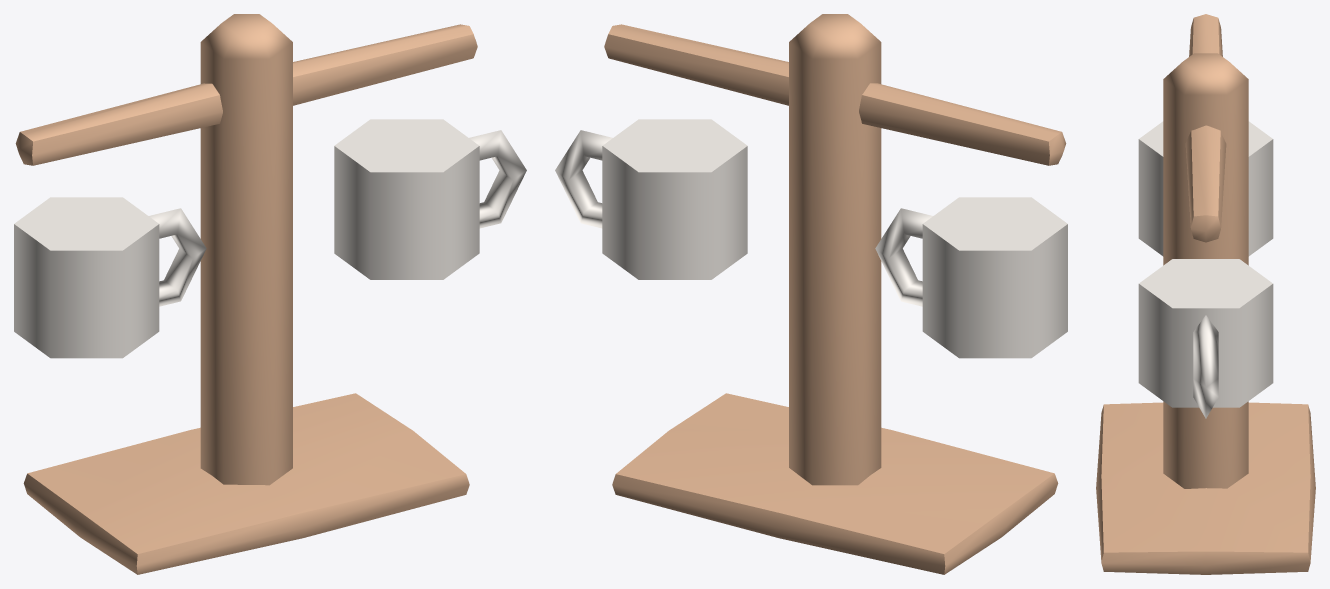
File: cup-rack.glb
3 views of the same model, side by side, from view 1: azimuth 30°, elevation 25°; view 2: azimuth 150°, elevation 25°; view 3: azimuth 270°, elevation 25° (orthographic). The views are drawn at different scales.
Parts seen in each view (by area): view 1: part (×7); view 2: part (×7); view 3: part (×6).
Part boxes in pixels (box(x1,y1,x2,y2)): part (×7): box(14, 14, 526, 574); part (×7): box(555, 14, 1067, 574); part (×6): box(1096, 14, 1315, 574).
Size of the model in its own units: 0.445 by 0.4 by 0.18.
1 material, 1 textured.
